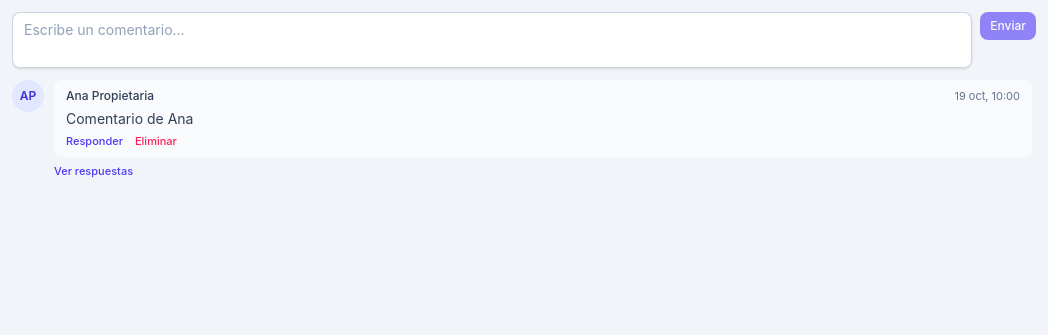
Test: CommentThread › hides multiple replies until the user expands them
The image size is (1048, 335).
Expected: the text "Comentario de Ana" is shown, left=66, top=110, right=193, bottom=126
Expected: the text "Respuesta única" is not shown
Click the button "Ver respuestas" at (94, 171), box left=54, top=163, right=133, bottom=180
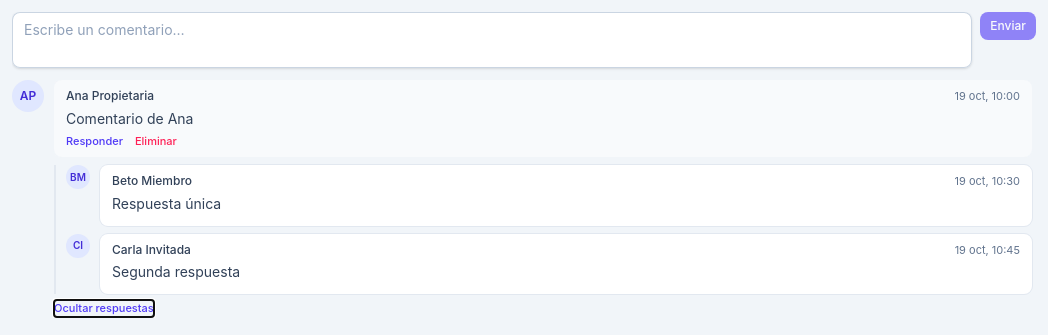
Result: the text "Respuesta única" is shown at left=112, top=194, right=221, bottom=212
Result: the text "Segunda respuesta" is shown at left=112, top=263, right=240, bottom=280
Result: the button "Ocultar respuestas" is expanded
Click the button "Ocultar respuestas" at (104, 308), box left=54, top=300, right=154, bottom=316
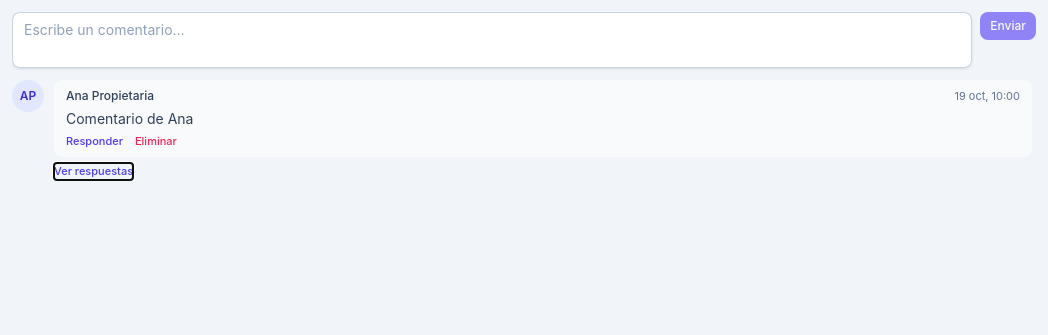
Result: the text "Respuesta única" is gone
Result: the text "Segunda respuesta" is gone
Result: the button "Ver respuestas" is shown at left=54, top=163, right=133, bottom=180
